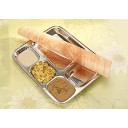dosa: (16, 23, 118, 79)
